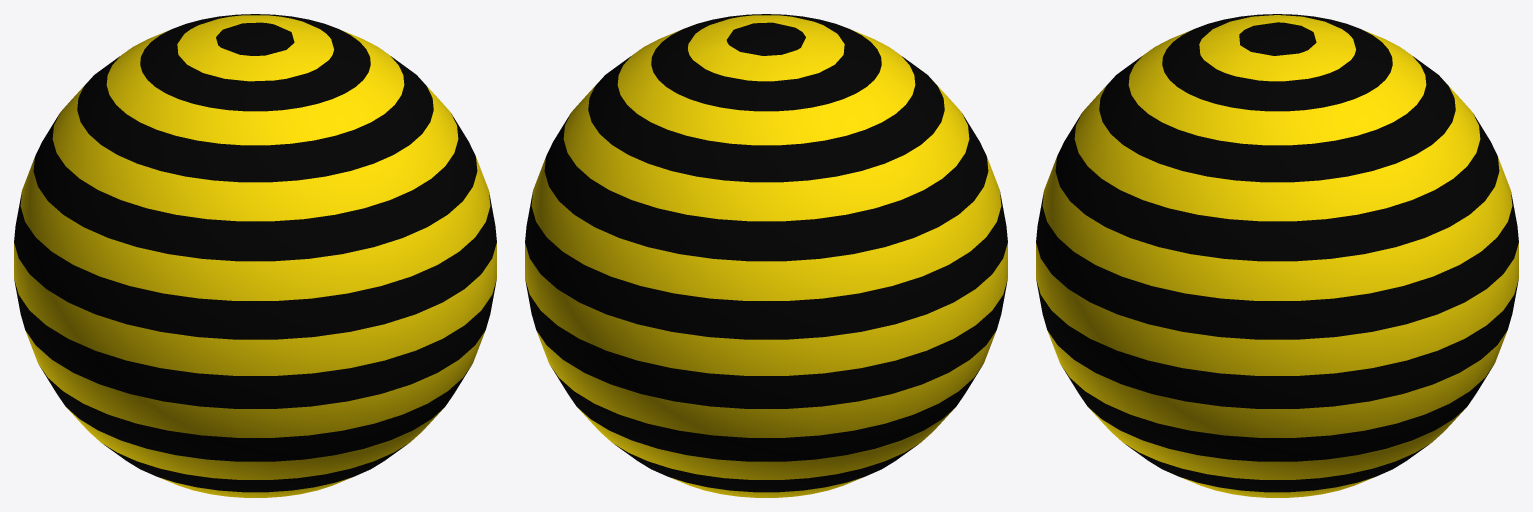
The model's file is Colorful-Balls_1.fbx.
The picture shows the model from 3 angles, left to right: view 1: azimuth 30°, elevation 25°; view 2: azimuth 150°, elevation 25°; view 3: azimuth 270°, elevation 25°; orthographic projection.
Visible parts, largest first — view 1: Sphere.005; view 2: Sphere.005; view 3: Sphere.005.
Part boxes in pixels (<box>): Sphere.005: <box>14,14,496,497</box>; Sphere.005: <box>525,14,1007,497</box>; Sphere.005: <box>1036,14,1518,497</box>.
Size of the model in its own units: 149 by 150 by 149.
